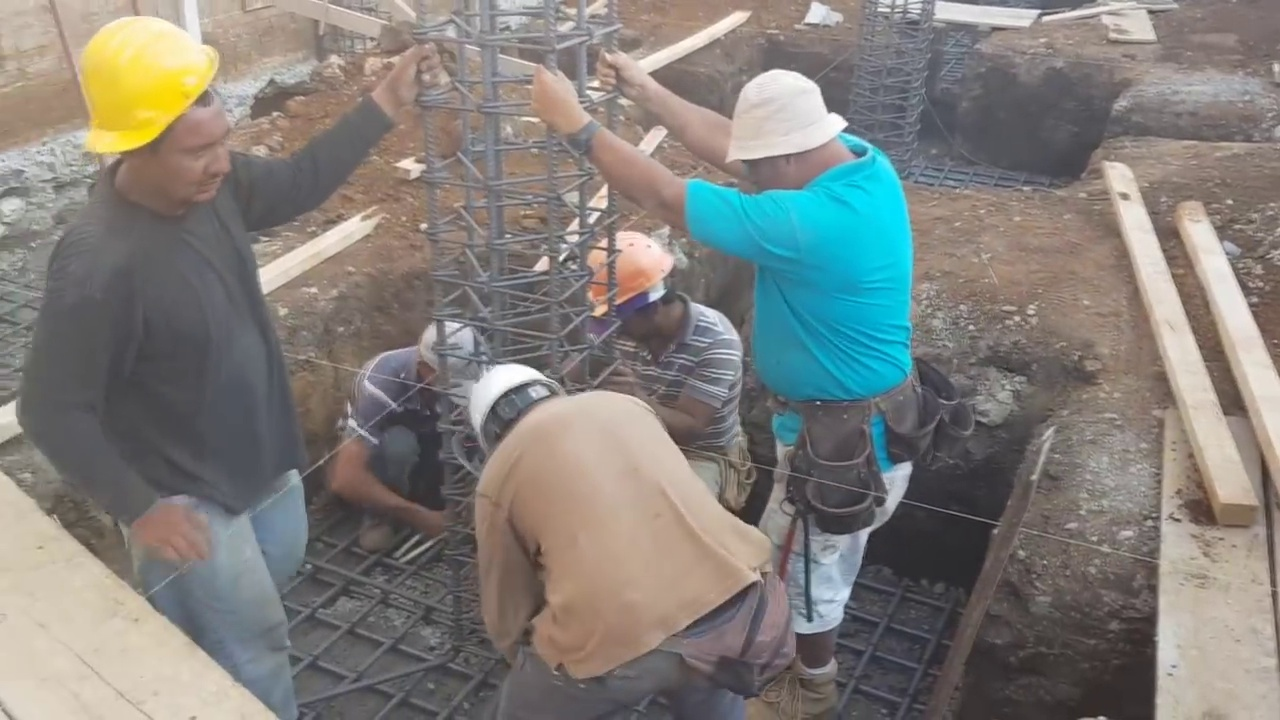helmet: (70, 5, 220, 164), (472, 362, 566, 452), (582, 230, 675, 315)
helmet-off: (724, 66, 856, 199), (408, 324, 475, 389)
helmet-on: (72, 4, 220, 210), (580, 227, 691, 340), (468, 359, 578, 462)
person: (32, 7, 440, 700), (548, 47, 923, 718), (473, 354, 784, 720), (538, 230, 756, 505), (341, 328, 475, 555)
